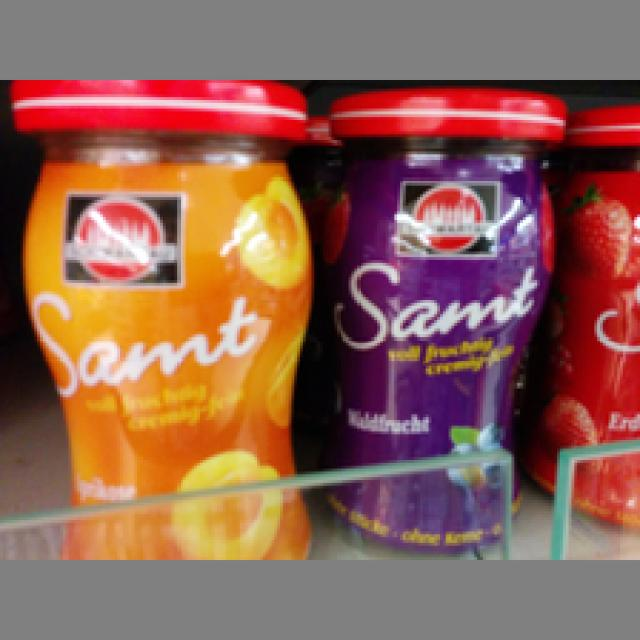groceries: (8, 77, 312, 554), (320, 91, 569, 543)
